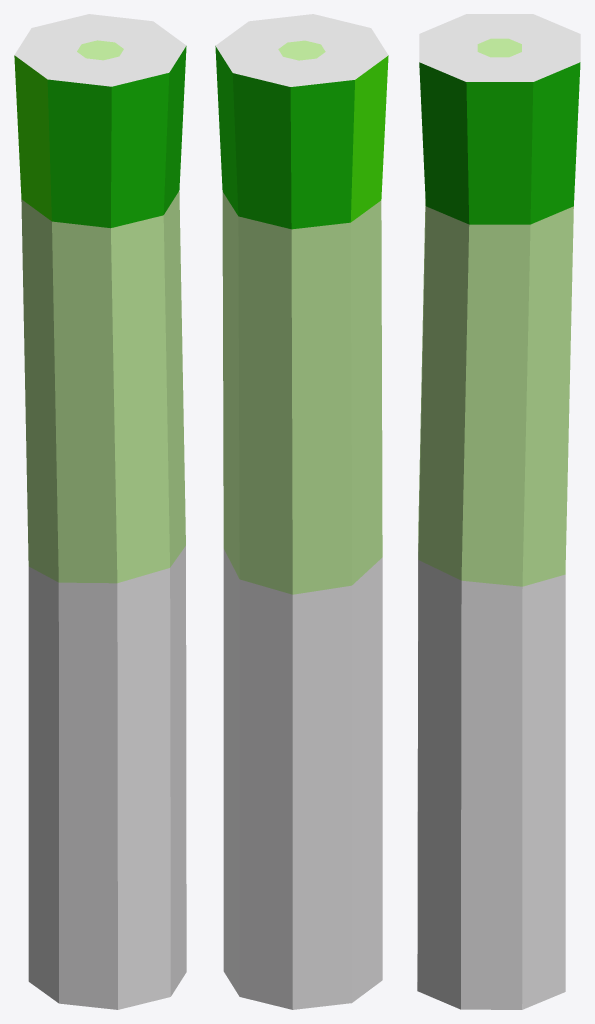
The model's file is leek02.gltf.
The picture shows the model from 3 angles, left to right: view 1: azimuth 30°, elevation 25°; view 2: azimuth 150°, elevation 25°; view 3: azimuth 270°, elevation 25°; orthographic projection.
Parts seen in each view (by area): view 1: Cylinder.001; view 2: Cylinder.001; view 3: Cylinder.001.
Part boxes in pixels (x1=…): Cylinder.001: x1=14, y1=14, x2=186, y2=1009; Cylinder.001: x1=215, y1=14, x2=388, y2=1009; Cylinder.001: x1=417, y1=14, x2=580, y2=1009.
Bounding box in the file's own units: 0.0365 × 0.2321 × 0.0369.
Materials: 1 (1 with a texture image).
